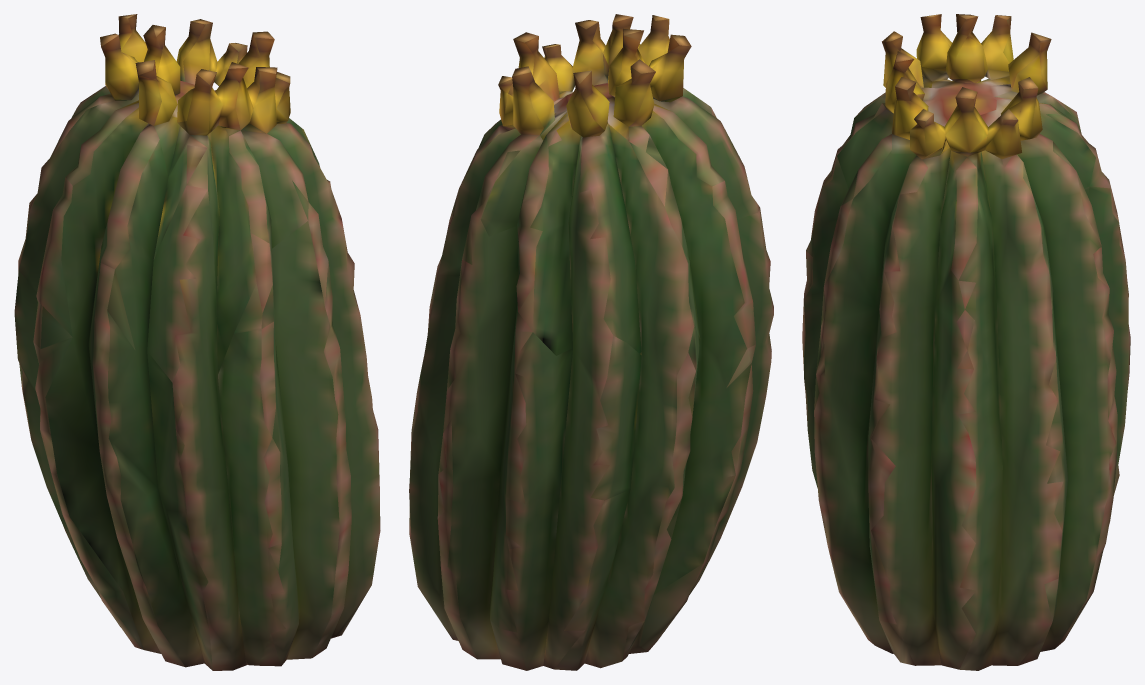
The model's file is barrel_cactus.glb.
3 renders of one model, left to right at view 1: azimuth 30°, elevation 25°; view 2: azimuth 150°, elevation 25°; view 3: azimuth 270°, elevation 25°, orthographic. The views are drawn at different scales.
Visible parts, largest first — view 1: LO.001; view 2: LO.001; view 3: LO.001.
Part boxes in pixels (x1=…): LO.001: x1=14, y1=14, x2=380, y2=670; LO.001: x1=409, y1=14, x2=773, y2=670; LO.001: x1=802, y1=14, x2=1130, y2=670.
Bounding box in the file's own units: 0.4838 × 0.8986 × 0.4594.
1 material, 1 textured.
